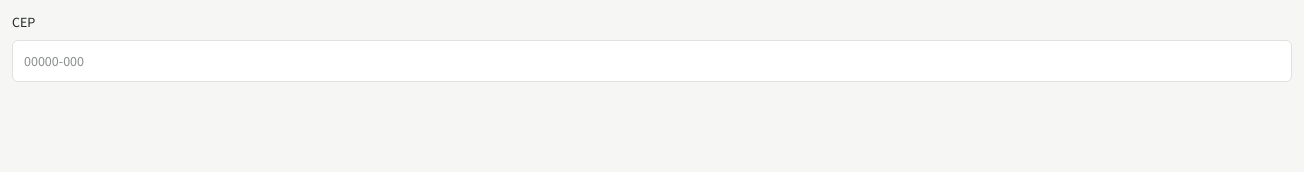
Scenario: consulta o CEP completo e retorna os dados de endereço
The width and height of the screenshot is (1304, 172).
Type "68445000" into the field labelled "CEP" at (652, 61), box [12,40,1292,82]
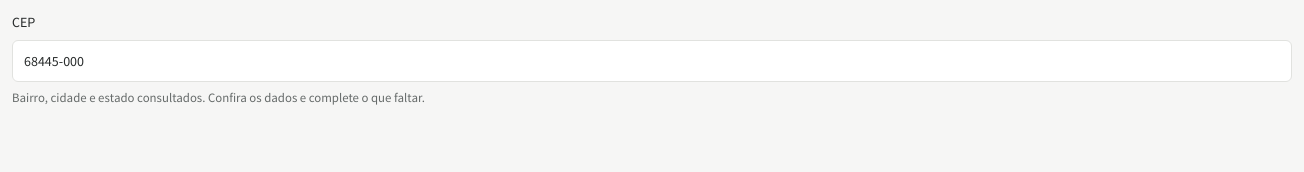
expect the field labelled "CEP" holds "68445-000": met, box [12,40,1292,82]
